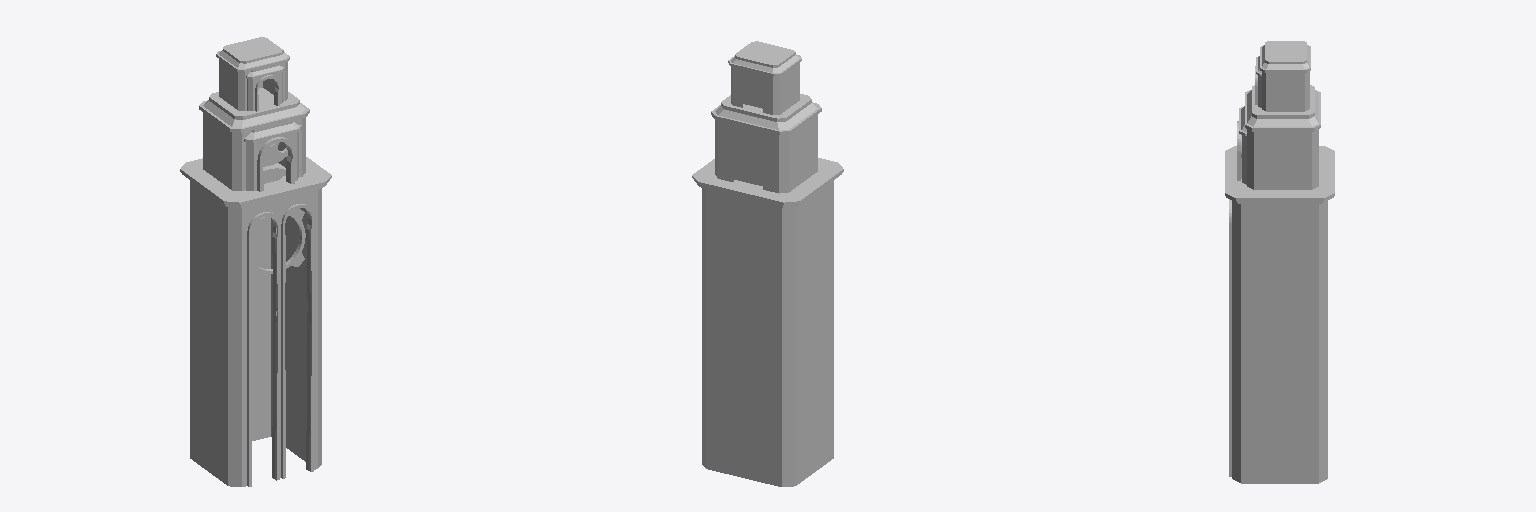
The model's file is Big Tall.obj.
3 views of the same model, side by side, from view 1: azimuth 30°, elevation 25°; view 2: azimuth 150°, elevation 25°; view 3: azimuth 270°, elevation 25° (orthographic).
Visible parts, largest first — view 1: pCube3, pCube14, pCube6, pCylinder2, pCube12, pTorus2; view 2: pCube3, pCube6, pCube12, pCube15; view 3: pCube3, pCube6, pCube12, pCylinder2.
Part boxes in pixels (x1,y1,x2,y2): pCube3: (180,157,331,486); pCube14: (251,208,307,461); pCube6: (199,88,309,191); pCylinder2: (247,204,313,486); pCube12: (216,37,289,111); pTorus2: (251,208,305,277); pCube3: (692,158,843,486); pCube6: (711,94,821,193); pCube12: (728,41,801,114); pCube15: (734,140,762,185); pCube3: (1225,146,1334,483); pCube6: (1237,85,1320,189); pCube12: (1255,41,1310,111); pCylinder2: (1229,199,1231,476).
Bounding box in the file's own units: 11.92 × 43.37 × 10.52.